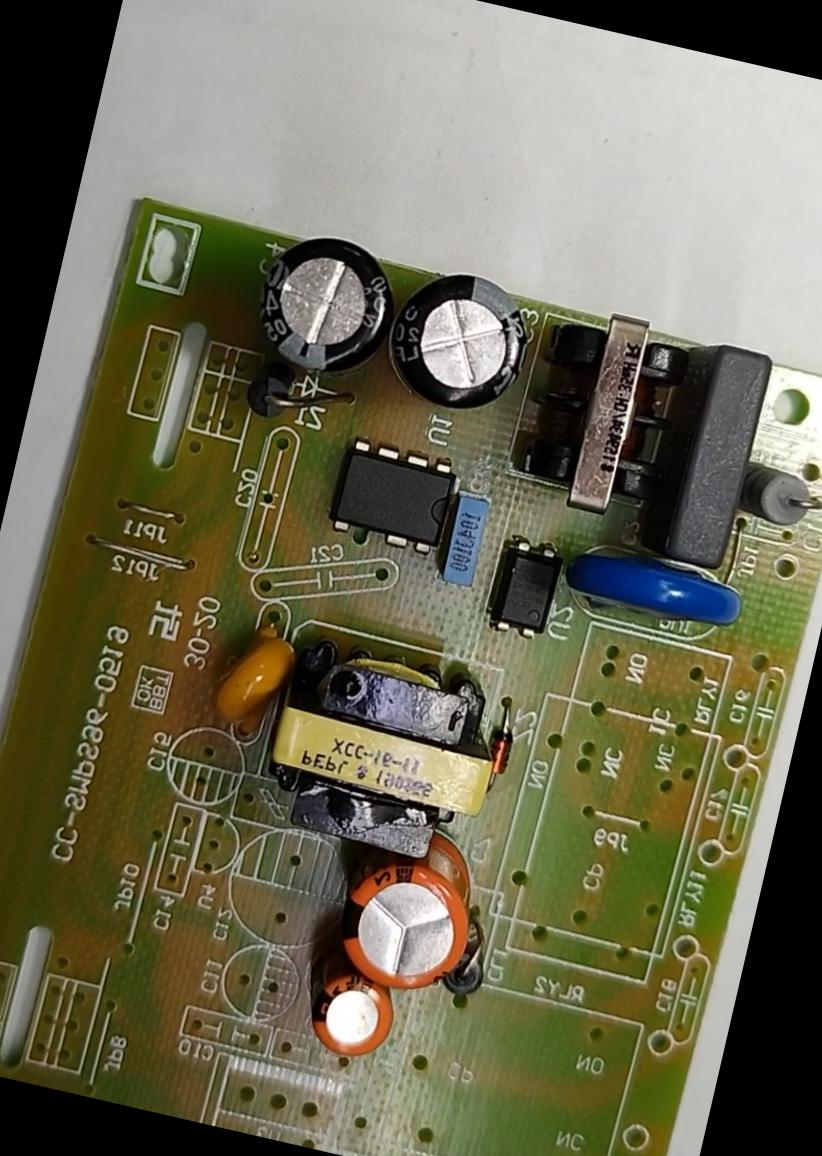Cap1: (312, 810, 507, 1021)
Cap2: (296, 963, 408, 1072)
Cap3: (370, 251, 548, 430)
Cap4: (227, 217, 410, 408)
MOSFET: (304, 425, 477, 566)
Mov: (543, 523, 766, 663)
Resistor: (730, 454, 821, 554)
Transformer: (235, 624, 524, 879), (510, 299, 714, 538)
